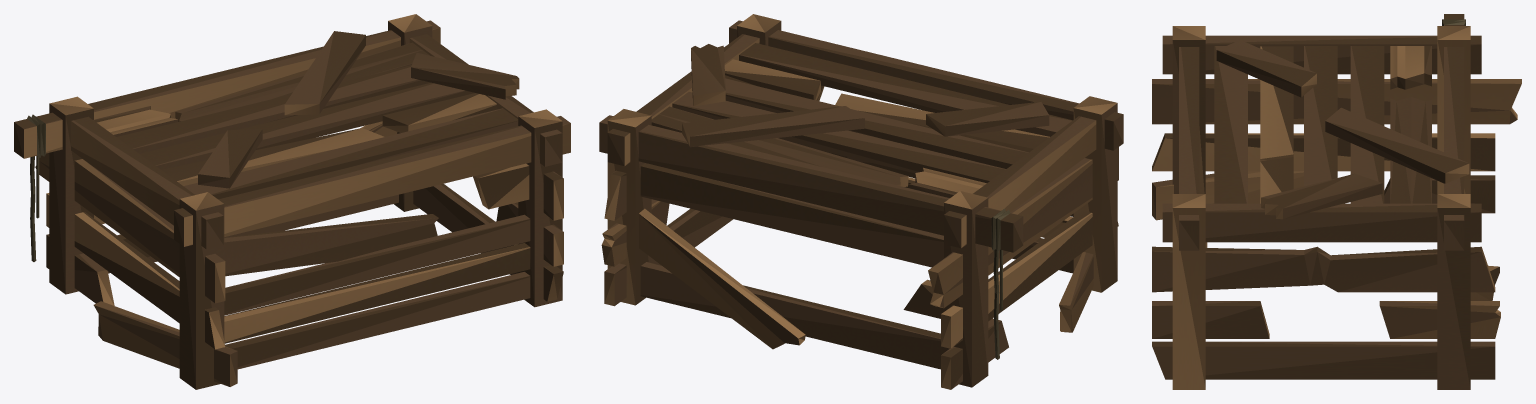
The model's file is Wood_Box.fbx.
3 renders of one model, left to right at view 1: azimuth 30°, elevation 25°; view 2: azimuth 150°, elevation 25°; view 3: azimuth 270°, elevation 25°, orthographic. The views are drawn at different scales.
Parts seen in each view (by area): view 1: polySurface1108; view 2: polySurface1108; view 3: polySurface1108.
Boxes of the visible parts, x1,y1,x2,y2 form: polySurface1108: [14, 14, 570, 389]; polySurface1108: [599, 14, 1123, 389]; polySurface1108: [1152, 14, 1521, 389].
Size of the model in its own units: 369 by 155 by 279.
1 material, 1 textured.
